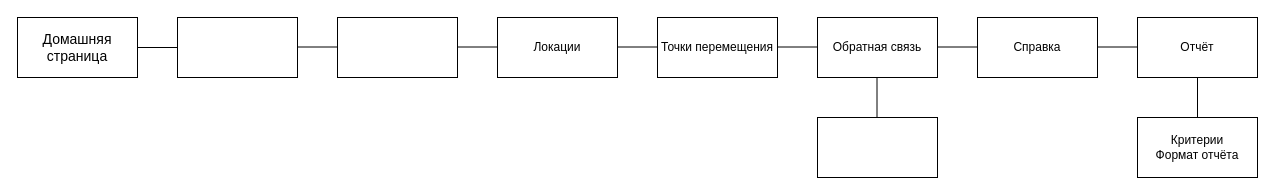
This 1275x195 diagram has some shape labels left out. The box of each missing label's shape, as (x1, y1, x2, y2) in pixels:
Животные: (336, 16, 458, 78)
Типы животных: (176, 16, 298, 78)
Форма обратной связи: (816, 116, 938, 178)
